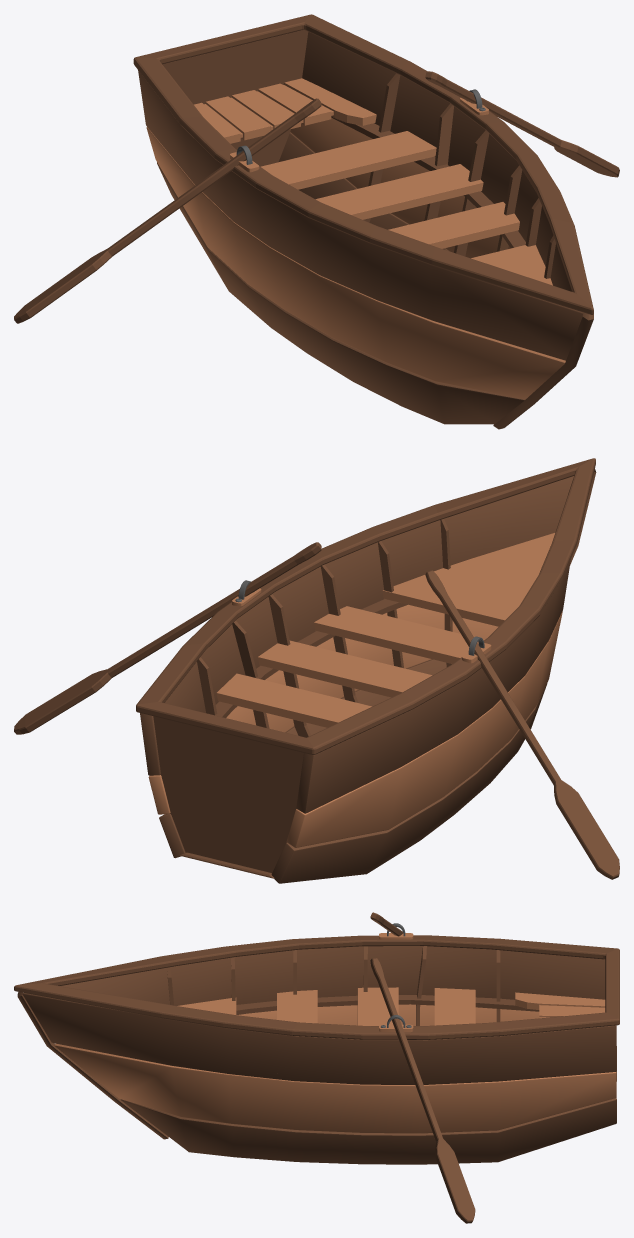
The model's file is Boat.glb.
3 renders of one model, top to bottom at view 1: azimuth 30°, elevation 25°; view 2: azimuth 150°, elevation 25°; view 3: azimuth 270°, elevation 25°, orthographic. The views are drawn at different scales.
Parts seen in each view (by area): view 1: Boat Back; view 2: Boat Back; view 3: Boat Back.
Boxes of the visible parts, box(x1,y1,x2,y2) form: Boat Back: box(14, 14, 619, 429); Boat Back: box(14, 458, 619, 883); Boat Back: box(14, 912, 619, 1223).
Size of the model in its own units: 6.17 by 2.43 by 6.55.
